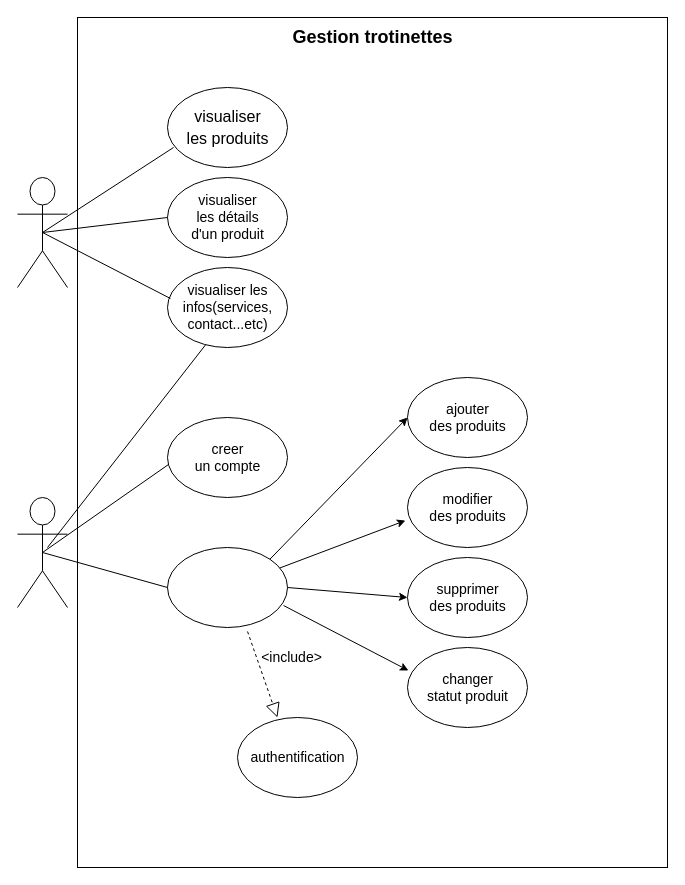
Image size: 685x885. Some labels were removed from this diagram. Each missing label, with the centre of its shape:
admin: the point at 42,552
gerer les produits: the point at 227,587
visiteurs: the point at 42,232
